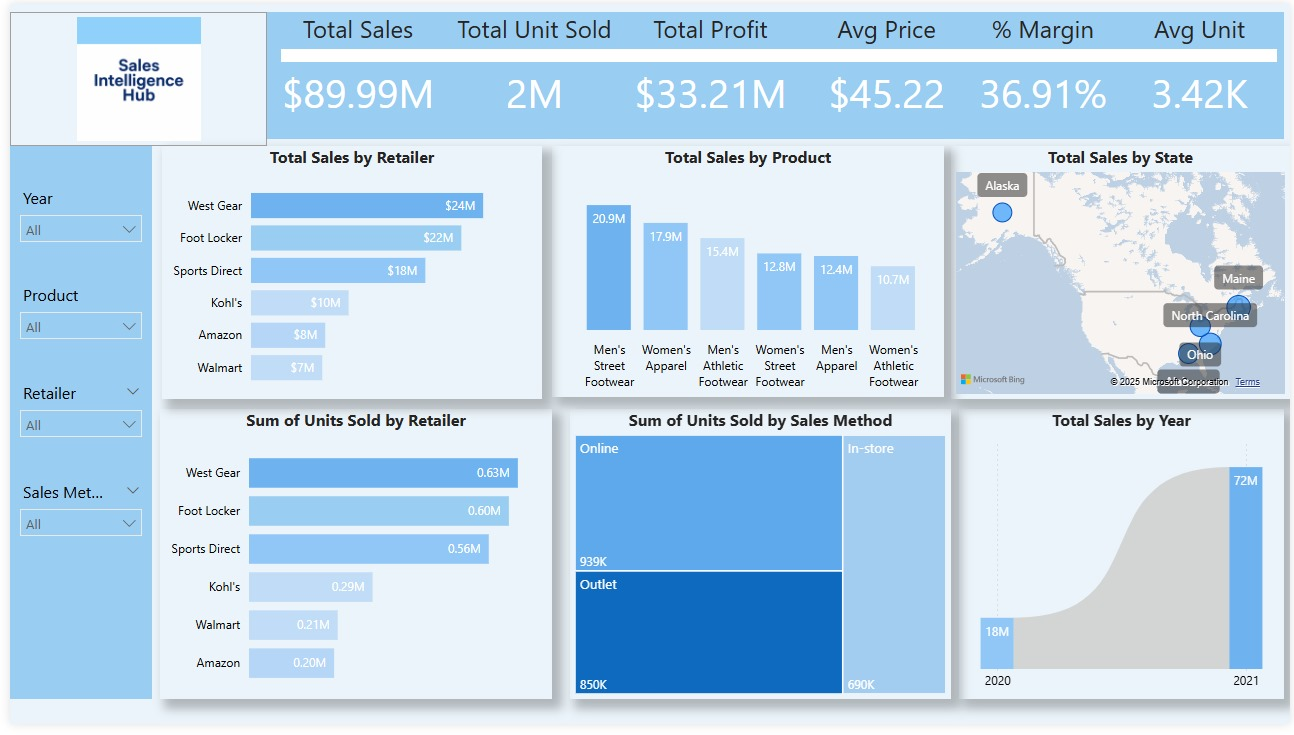

The dashboard page shown, as its layout file describes it:
{"tool":"powerbi","page":{"name":"Mainboard","canvas":[1280,720],"ordinal":0},"visuals":[{"type":"shape","box":[257.3,8.2,1016.4,127.3],"z":0},{"type":"card","title":"Total Sales","fields":{"Values":["Measures (2).Total Sales"]},"box":[257.3,8.2,181.8,127.3],"z":1000},{"type":"card","title":"Total Unit Sold","fields":{"Values":["Measures (2).Total Units Sold"]},"box":[434.2,8.2,180.9,127.3],"z":2000},{"type":"shape","box":[270.9,45.5,996.4,12.7],"z":3000},{"type":"card","title":"Total Profit","fields":{"Values":["Measures (2).Total Operating Profit"]},"box":[610.2,8.2,180.9,127.3],"z":4000},{"type":"card","title":"Avg Price","fields":{"Values":["Measures (2).Average Price per Unit"]},"box":[786.2,8.2,180.9,127.3],"z":5000},{"type":"card","title":"% Margin","fields":{"Values":["Measures (2).Operating Margin %"]},"box":[962.2,8.2,141.8,127.3],"z":6000},{"type":"card","title":"Avg Unit","fields":{"Values":["Measures (2).Avg Units per Invoice"]},"box":[1099.1,8.2,180.9,127.3],"z":7000},{"type":"barChart","fields":{"Category":["Dim_Retail Table.Retailer"],"Y":["Measures (2).Total Sales"]},"box":[151.8,141.8,380,253.6],"z":8000},{"type":"clusteredColumnChart","fields":{"Category":["Dim_Product Table.Product"],"Y":["Measures (2).Total Sales"]},"box":[541.8,141.8,391.8,250.9],"z":9000},{"type":"map","title":"Total Sales by State","fields":{"Size":["Sum(Fact_Sales Table.Total Sales)"],"Category":["Dim_Location Table.State"]},"box":[940.9,141.8,339.1,253.6],"z":10000},{"type":"barChart","fields":{"Category":["Dim_Retail Table.Retailer"],"Y":["Sum(Fact_Sales Table.Units Sold)"]},"box":[150,404.5,391.8,290],"z":11000},{"type":"treemap","fields":{"Group":["Dim_SalesMethod Table.Sales Method"],"Values":["Sum(Fact_Sales Table.Units Sold)"]},"box":[560,404.5,380.9,290],"z":12000},{"type":"ribbonChart","fields":{"Category":["Dim_Date.Date.Variation.Date Hierarchy.Year"],"Y":["Measures (2).Total Sales"]},"box":[949.1,404.5,324.5,290],"z":13000},{"type":"shape","box":[0,141.8,141.8,552.7],"z":14000},{"type":"slicer","fields":{"Values":["Dim_Date.Year"]},"box":[0,178.2,141.8,62.7],"z":15000},{"type":"slicer","fields":{"Values":["Dim_Product Table.Product"]},"box":[0,275.5,141.8,62.7],"z":16000},{"type":"slicer","fields":{"Values":["Dim_Retail Table.Retailer"]},"box":[0,372.7,141.8,62.7],"z":17000},{"type":"slicer","fields":{"Values":["Dim_SalesMethod Table.Sales Method"]},"box":[0,471.8,141.8,62.7],"z":18000},{"type":"image","box":[0,8.2,257.3,133.6],"z":19000}]}

Visuals, with their boxes in screenshot pixels (x1, y1, x2, y2), scaled from the page's 1280x720 canvas onto the 1294x735 screenshot:
shape: [260, 8, 1288, 138]
"Total Sales" card: [260, 8, 444, 138]
"Total Unit Sold" card: [439, 8, 622, 138]
shape: [274, 46, 1281, 59]
"Total Profit" card: [617, 8, 800, 138]
"Avg Price" card: [795, 8, 978, 138]
"% Margin" card: [973, 8, 1116, 138]
"Avg Unit" card: [1111, 8, 1293, 138]
barChart - Dim_Retail Table.Retailer x Measures (2).Total Sales: [153, 145, 538, 404]
clusteredColumnChart - Dim_Product Table.Product x Measures (2).Total Sales: [548, 145, 944, 401]
"Total Sales by State" map: [951, 145, 1293, 404]
barChart - Dim_Retail Table.Retailer x Sum(Fact_Sales Table.Units Sold): [152, 413, 548, 709]
treemap - Dim_SalesMethod Table.Sales Method x Sum(Fact_Sales Table.Units Sold): [566, 413, 951, 709]
ribbonChart - Dim_Date.Date.Variation.Date Hierarchy.Year x Measures (2).Total Sales: [959, 413, 1288, 709]
shape: [0, 145, 143, 709]
slicer - Dim_Date.Year: [0, 182, 143, 246]
slicer - Dim_Product Table.Product: [0, 281, 143, 345]
slicer - Dim_Retail Table.Retailer: [0, 380, 143, 444]
slicer - Dim_SalesMethod Table.Sales Method: [0, 482, 143, 546]
image: [0, 8, 260, 145]
